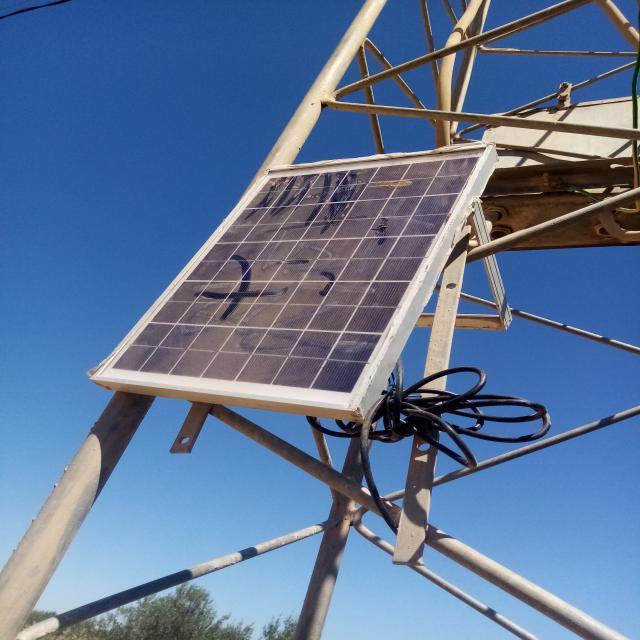faulty: (95, 143, 491, 410)
